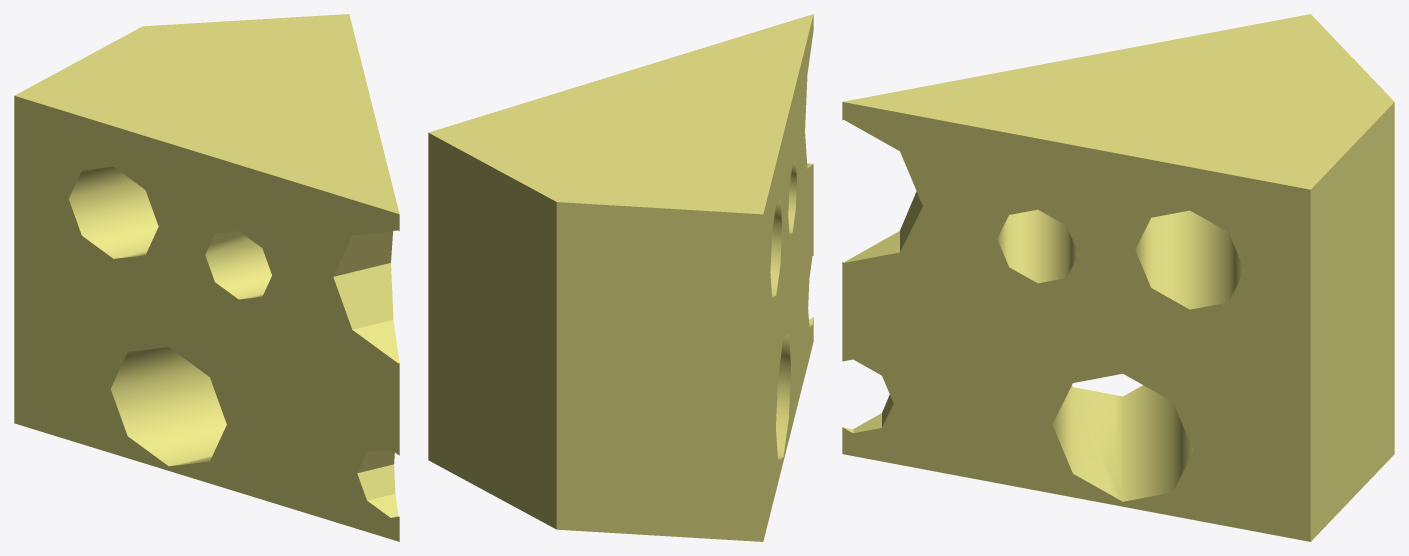
File: SM_Cheese.fbx
3 views of the same model, side by side, from view 1: azimuth 30°, elevation 25°; view 2: azimuth 150°, elevation 25°; view 3: azimuth 270°, elevation 25° (orthographic). The views are drawn at different scales.
Visible parts, largest first — view 1: Cheese; view 2: Cheese; view 3: Cheese.
Part boxes in pixels (box(x1,y1,x2,y2)): Cheese: box(14, 14, 399, 541); Cheese: box(428, 14, 813, 541); Cheese: box(842, 14, 1394, 541).
Size of the model in its own units: 38.29 by 35.78 by 50.85.
